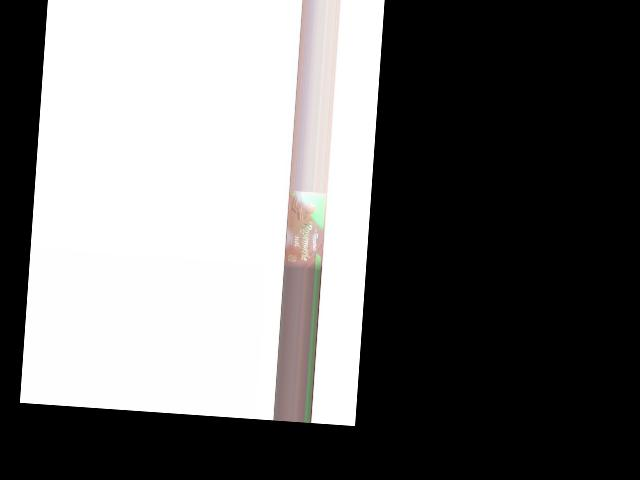chocolate: (284, 191, 325, 271)
